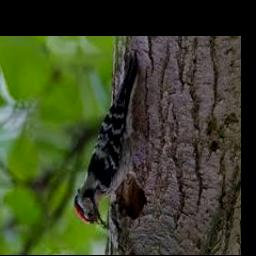Woodpecker: (75, 52, 146, 231)
